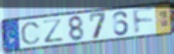6: (112, 11, 130, 37)
7: (89, 11, 108, 41)
8: (67, 15, 85, 42)
C: (19, 21, 42, 45)
F: (131, 7, 156, 36)
Z: (41, 17, 65, 44)
